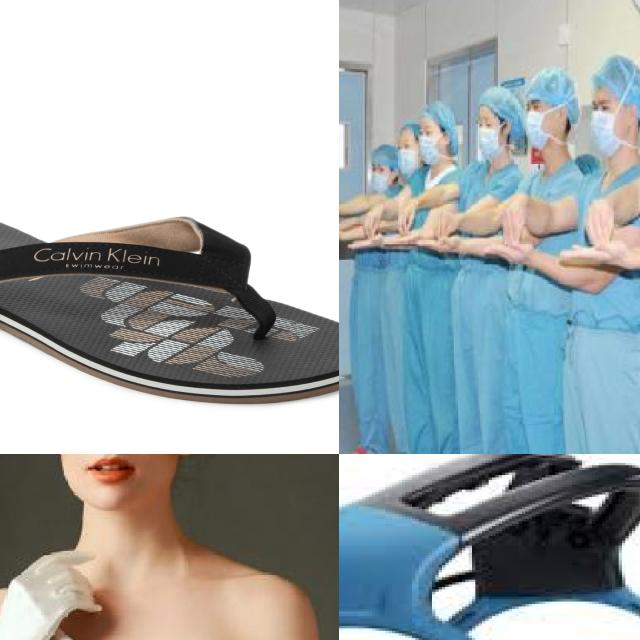Sandals: (0, 208, 339, 406)
face_mask: (583, 86, 631, 160), (522, 94, 562, 152), (475, 103, 508, 163), (416, 120, 444, 169), (396, 132, 423, 180), (371, 160, 394, 192)
face_nomask: (50, 454, 176, 511)
hand_glove: (0, 547, 108, 640)
hand_noglove: (557, 238, 625, 268), (582, 197, 614, 243), (500, 198, 526, 244), (417, 234, 460, 260), (486, 240, 530, 264), (384, 232, 418, 251), (345, 235, 383, 252), (435, 210, 454, 242), (395, 206, 414, 232), (362, 209, 380, 235)
person: (0, 454, 339, 640), (563, 57, 640, 454), (503, 75, 577, 454), (455, 95, 524, 454), (346, 141, 395, 454), (415, 103, 458, 454), (384, 116, 420, 454)
